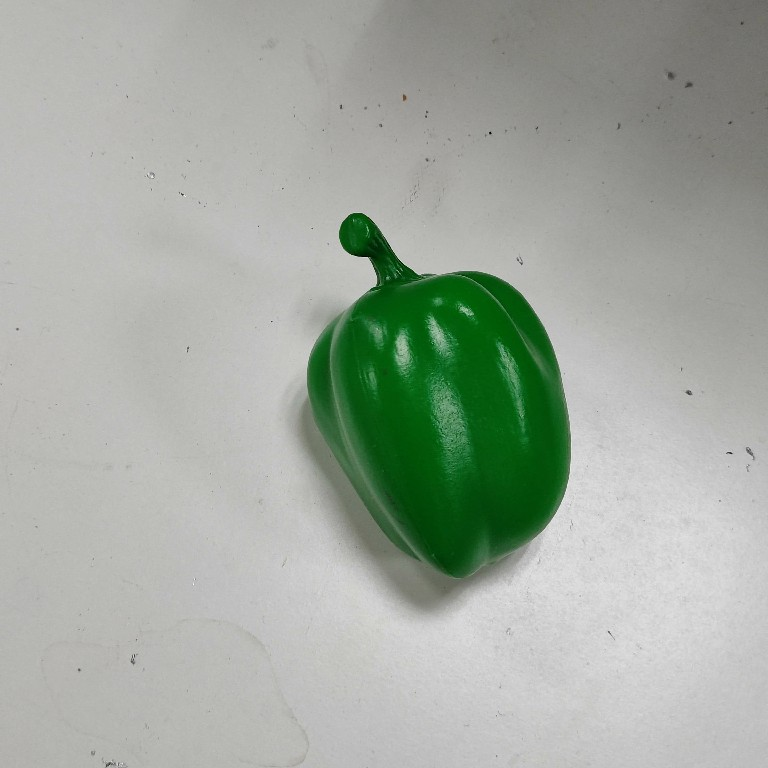fruit_pepper: (298, 206, 584, 589)
